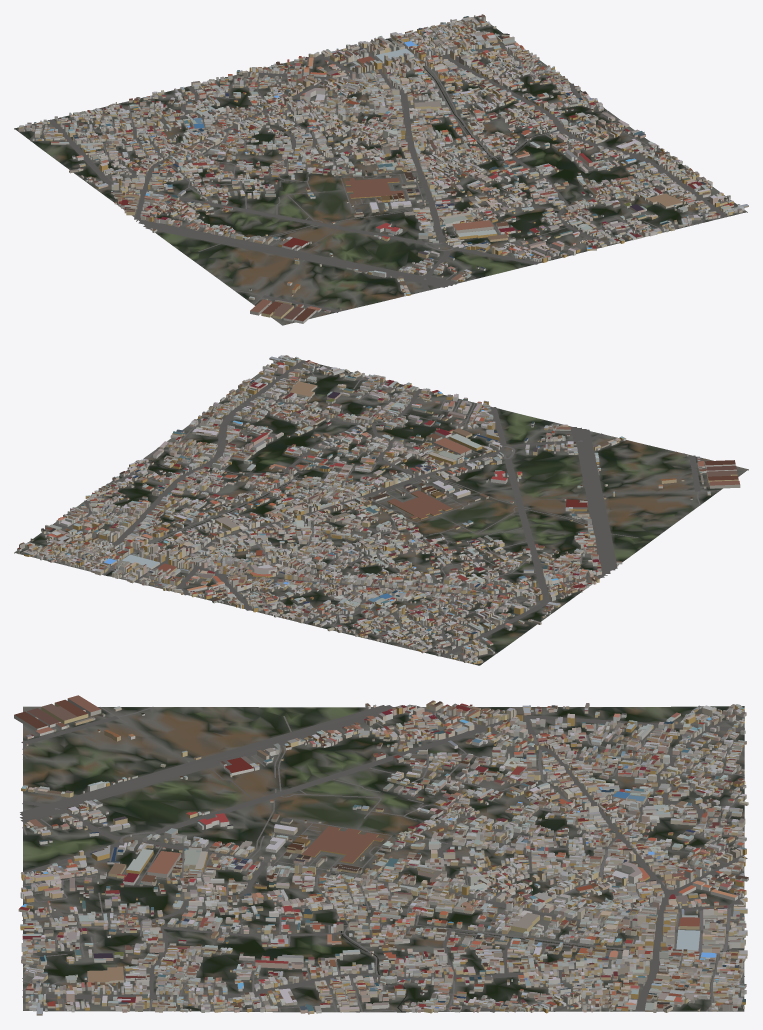
3 views of the same model, one above another, from view 1: azimuth 30°, elevation 25°; view 2: azimuth 150°, elevation 25°; view 3: azimuth 270°, elevation 25° (orthographic). The views are drawn at different scales.
Parts seen in each view (by area): view 1: buildings, ground, roads; view 2: buildings, ground, roads; view 3: buildings, ground, roads.
Boxes of the visible parts, x1=… form: buildings: x1=18, y1=14, x2=748, y2=323; ground: x1=14, y1=16, x2=747, y2=325; roads: x1=24, y1=18, x2=731, y2=312; buildings: x1=17, y1=355, x2=740, y2=664; ground: x1=14, y1=355, x2=748, y2=665; roads: x1=20, y1=360, x2=720, y2=663; buildings: x1=14, y1=695, x2=748, y2=1015; ground: x1=23, y1=706, x2=744, y2=1012; roads: x1=20, y1=705, x2=747, y2=1012.
Bounding box in the file's own units: 1455 × 31.01 × 1427.
